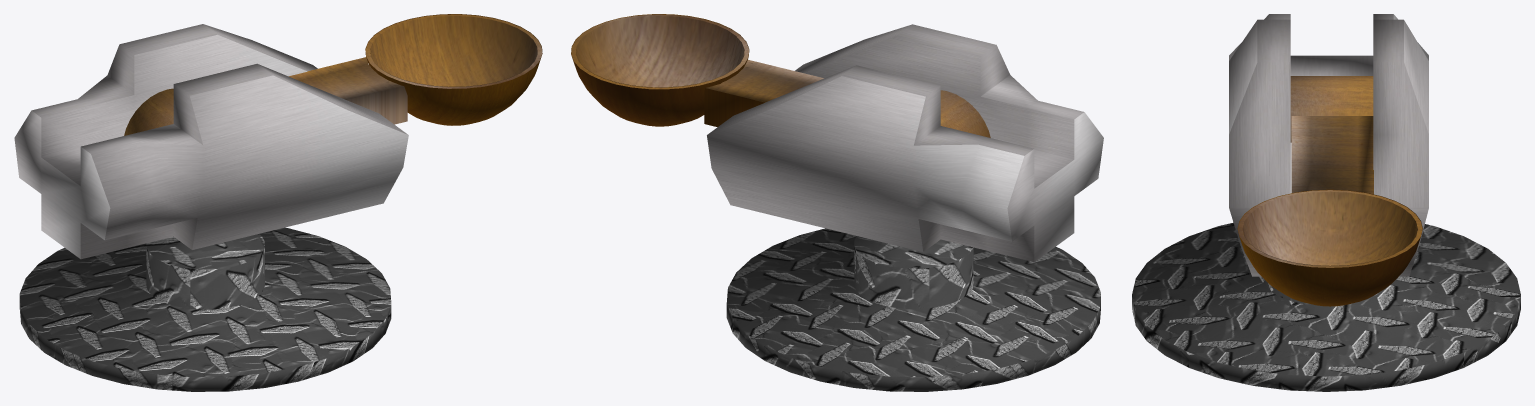
File: catapult 1.FBX
3 views of the same model, side by side, from view 1: azimuth 30°, elevation 25°; view 2: azimuth 150°, elevation 25°; view 3: azimuth 270°, elevation 25° (orthographic). The views are drawn at different scales.
Visible parts, largest first — view 1: Cube_157, Cylinder_001, Cylinder; view 2: Cube_157, Cylinder_001, Cylinder; view 3: Cylinder_001, Cylinder, Cube_157.
Part boxes in pixels (x1,y1,x2,y2): Cube_157: (14, 24, 408, 259); Cylinder_001: (19, 227, 391, 391); Cylinder: (124, 14, 542, 135); Cube_157: (707, 24, 1103, 262); Cylinder_001: (726, 228, 1100, 391); Cylinder: (571, 14, 990, 137); Cylinder_001: (1132, 222, 1520, 391); Cylinder: (1237, 76, 1422, 306); Cube_157: (1229, 14, 1428, 276).
Size of the model in its own units: 23.63 by 11.74 by 15.61.
3 materials, 3 textured.
